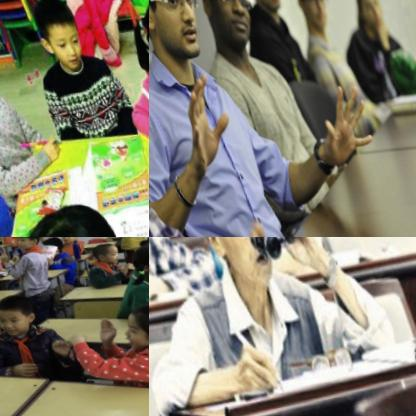head: (175, 237, 288, 292), (10, 198, 138, 237), (23, 0, 86, 72), (149, 0, 208, 67), (186, 0, 256, 50), (112, 292, 149, 353), (0, 285, 34, 337), (284, 0, 334, 32), (131, 0, 149, 80), (347, 0, 388, 35), (122, 237, 149, 281), (83, 237, 119, 267), (36, 237, 60, 254), (9, 237, 40, 250), (54, 237, 79, 243)
